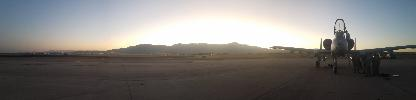A10: (269, 18, 415, 72)
